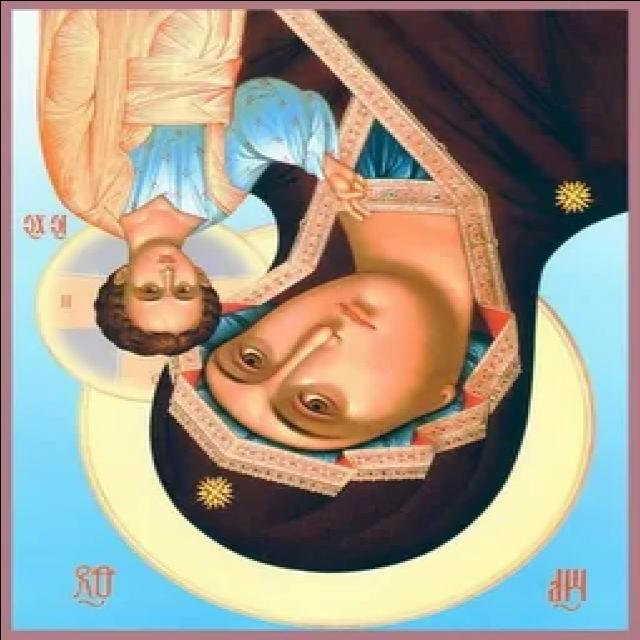mother of god: (0, 0, 640, 592)
